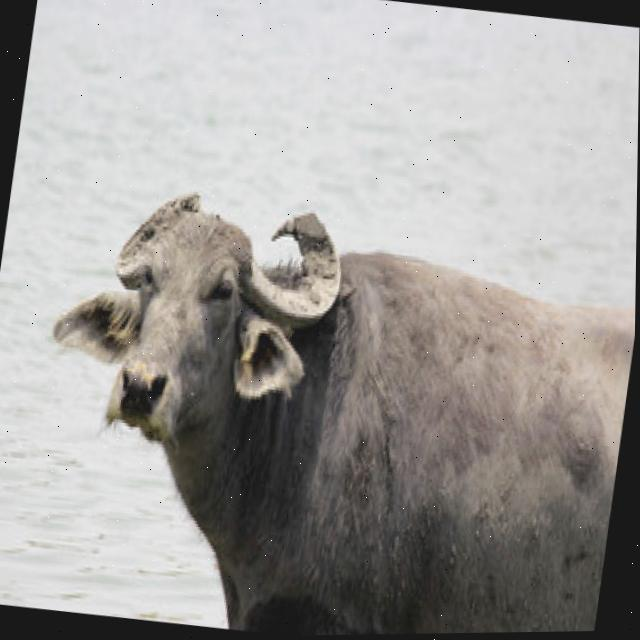Buffalo: (11, 161, 637, 640)
